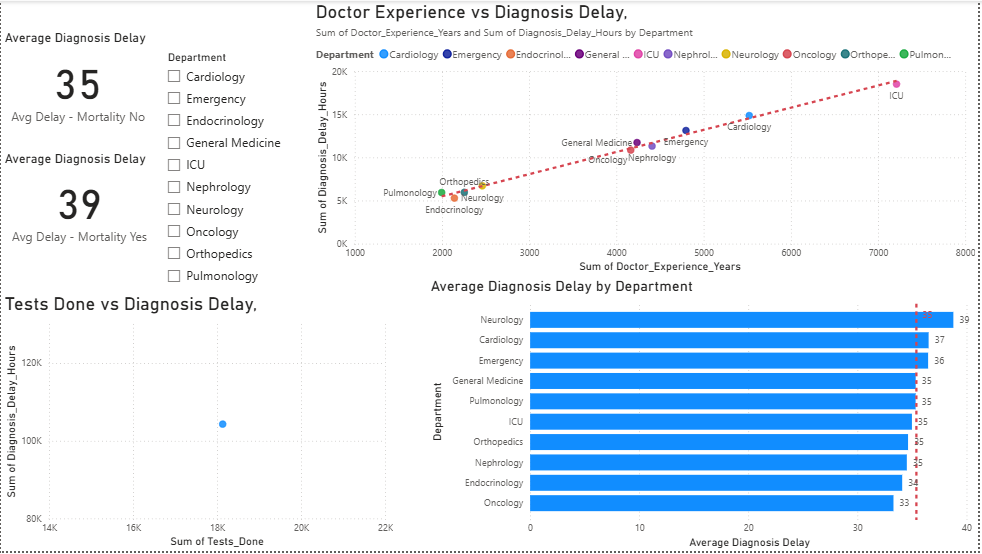

The page's visual inventory and layout, read from the dashboard file:
{"tool":"powerbi","page":{"name":"Diagnostic Error","canvas":[1280,720],"ordinal":7},"visuals":[{"type":"clusteredBarChart","title":"Average Diagnosis Delay by Department","fields":{"Category":["Healthcare_Master.Department"],"Y":["Healthcare_Master.Average Diagnosis Delay"]},"box":[557.9,361,722.1,359.6],"z":0},{"type":"scatterChart","title":"Doctor Experience vs Diagnosis Delay,","fields":{"X":["Sum(Healthcare_Master.Doctor_Experience_Years)"],"Y":["Sum(Healthcare_Master.Diagnosis_Delay_Hours)"],"Series":["Healthcare_Master.Department"]},"box":[406.7,0,873.3,361],"z":1000},{"type":"scatterChart","title":"Tests Done vs Diagnosis Delay,","fields":{"X":["Sum(Healthcare_Master.Tests_Done)"],"Y":["Sum(Healthcare_Master.Diagnosis_Delay_Hours)"]},"box":[0,382.4,518,338.2],"z":2000},{"type":"card","title":"Average Diagnosis Delay","fields":{"Values":["Healthcare_Master.Avg Delay - Mortality Yes"]},"box":[0,196.6,205.6,128.7],"z":3000},{"type":"card","title":"Average Diagnosis Delay","fields":{"Values":["Healthcare_Master.Avg Delay - Mortality No"]},"box":[0,37.5,202,130.5],"z":4000},{"type":"slicer","fields":{"Values":["Healthcare_Master.Department"]},"box":[205.6,60.8,202,321.8],"z":5000}]}

Visuals, with their boxes in screenshot pixels (x1, y1, x2, y2), scaled from the page's 1280x720 canvas onto the 982x554 screenshot:
"Average Diagnosis Delay by Department" clusteredBarChart: Rect(428, 278, 981, 553)
"Doctor Experience vs Diagnosis Delay," scatterChart: Rect(312, 0, 981, 278)
"Tests Done vs Diagnosis Delay," scatterChart: Rect(0, 294, 397, 553)
"Average Diagnosis Delay" card: Rect(0, 151, 158, 250)
"Average Diagnosis Delay" card: Rect(0, 29, 155, 129)
slicer - Healthcare_Master.Department: Rect(158, 47, 313, 294)
